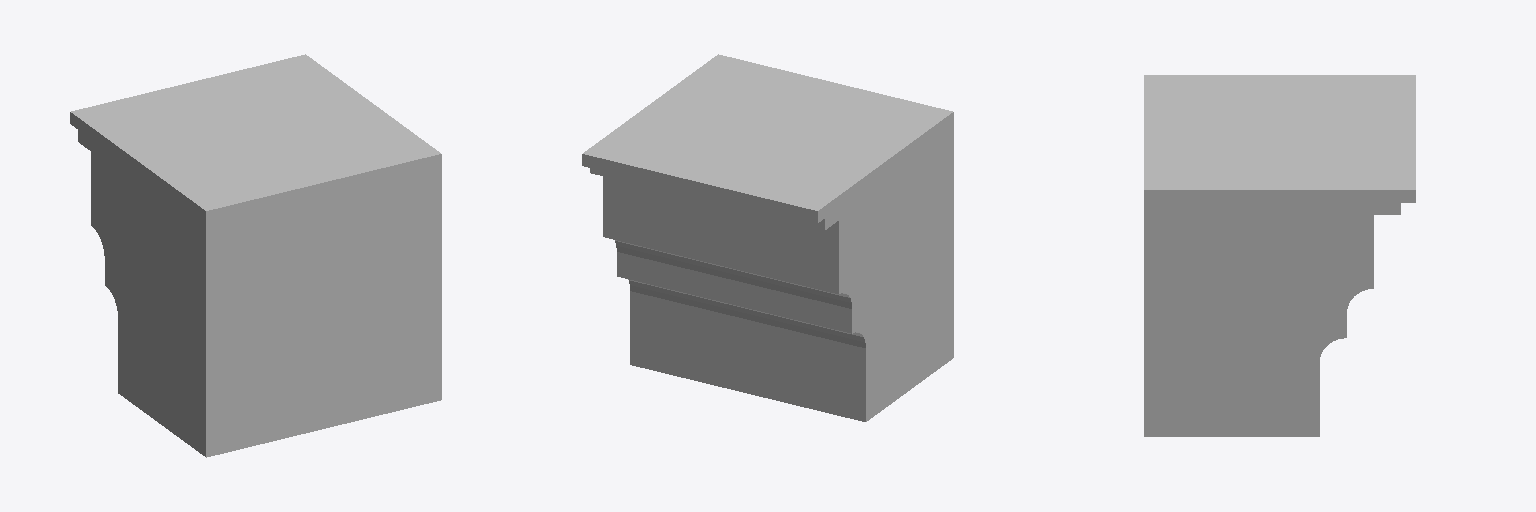
Rendered from haut.obj.
3 renders of one model, left to right at view 1: azimuth 30°, elevation 25°; view 2: azimuth 150°, elevation 25°; view 3: azimuth 270°, elevation 25°, orthographic.
Visible parts, largest first — view 1: group_0; view 2: group_0; view 3: group_0.
Part boxes in pixels (left/top/right/bottom): group_0: left=70, top=54, right=441, bottom=457; group_0: left=582, top=54, right=953, bottom=421; group_0: left=1144, top=75, right=1415, bottom=436.
Size of the model in its own units: 1 by 1 by 1.